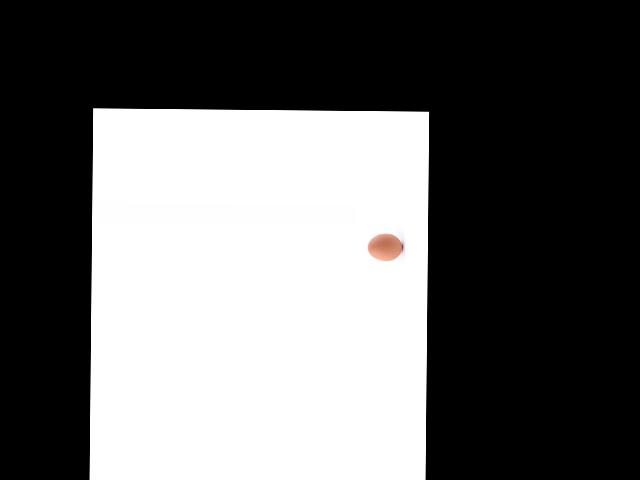egg: (367, 232, 402, 260)
